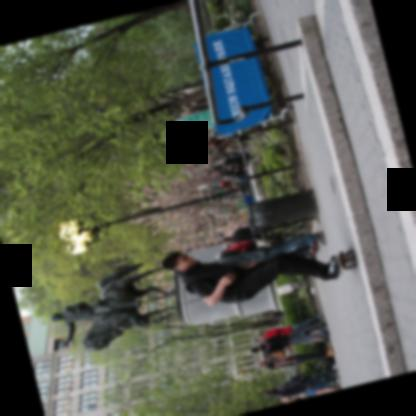backpack: (219, 239, 257, 256)
